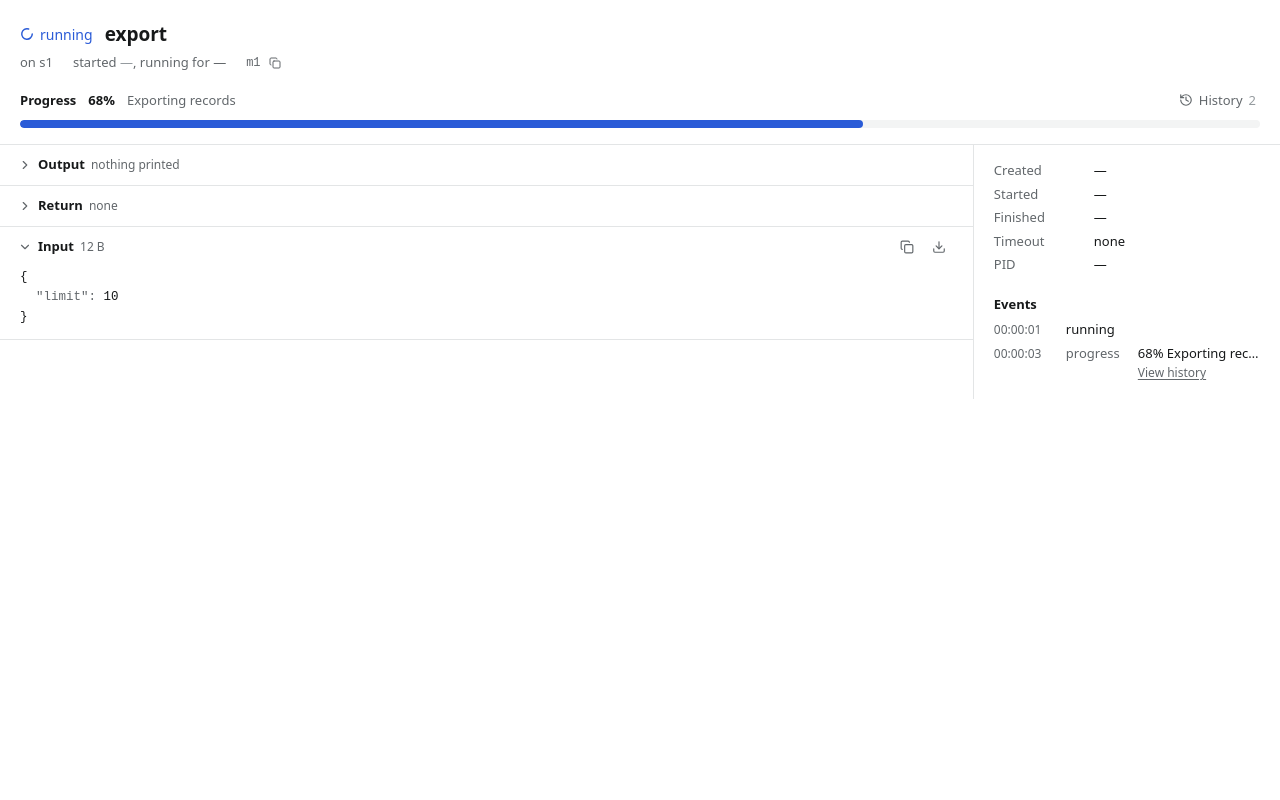
RunDetail › shows every progress update in history and supports closing with Escape
Step 1. Click the button with aria-label "View progress history" → (1217, 100), box [1175,88,1260,112]
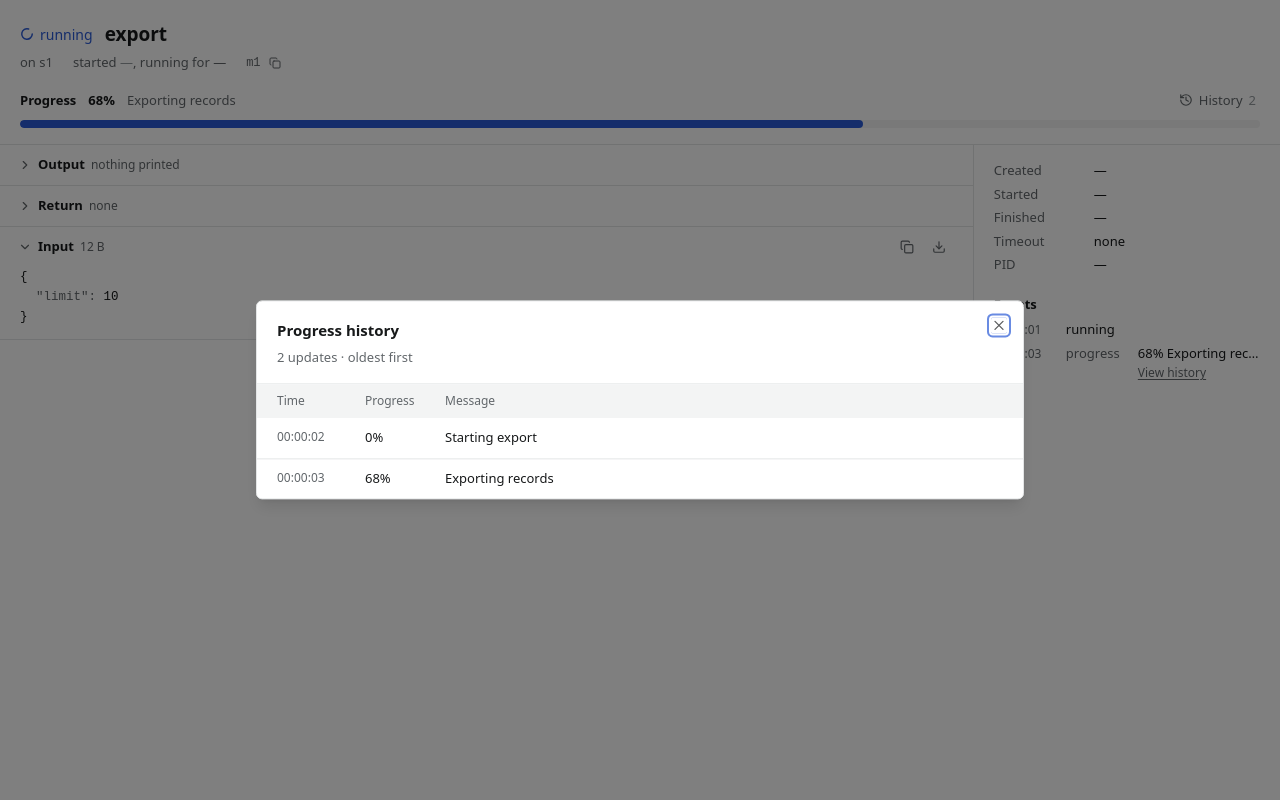
expect the text "Starting export" is shown: met, box [433,419,1023,459]
expect the text "0%" is shown: met, box [353,419,433,459]
expect the text "Exporting records" is shown: met, box [433,459,1023,499]
Step 2. Press Escape
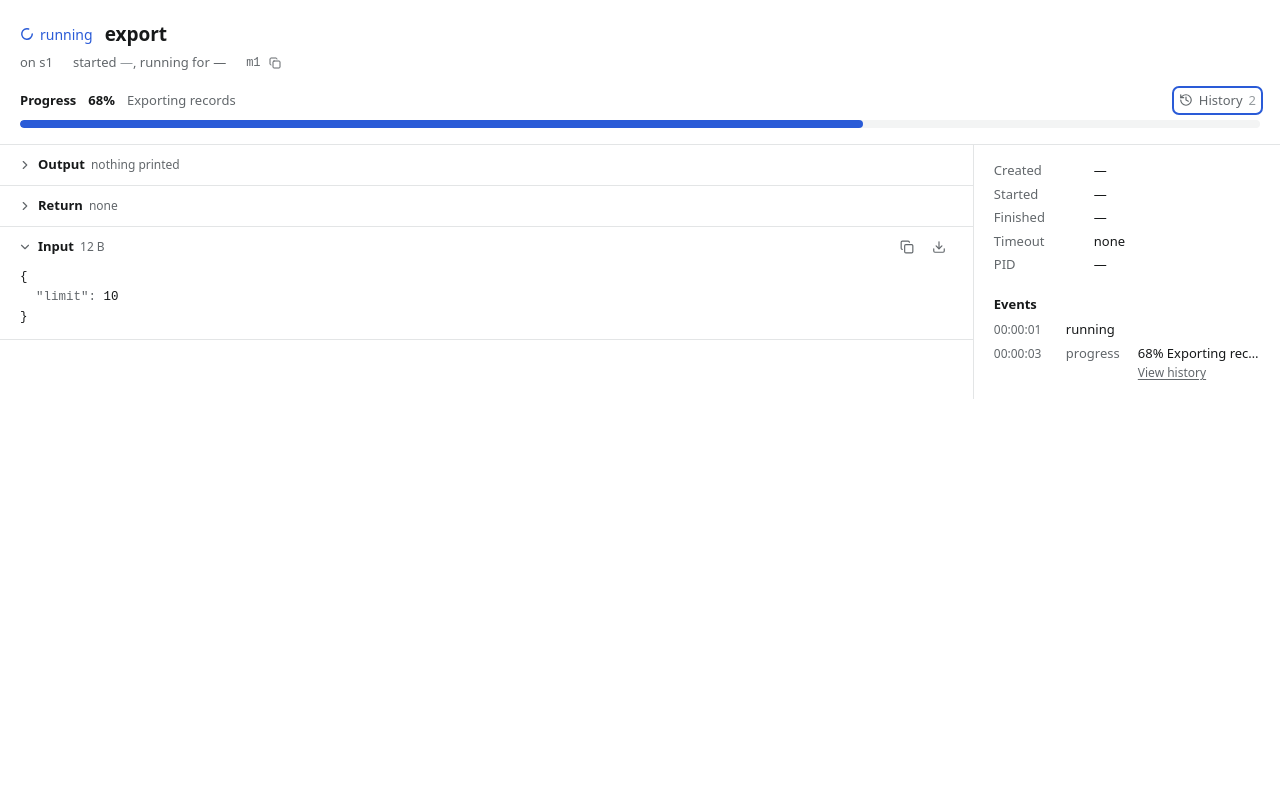
expect the dialog is gone: met
Step 3. Click the button "View history" → (1172, 373), box [1138,364,1206,382]
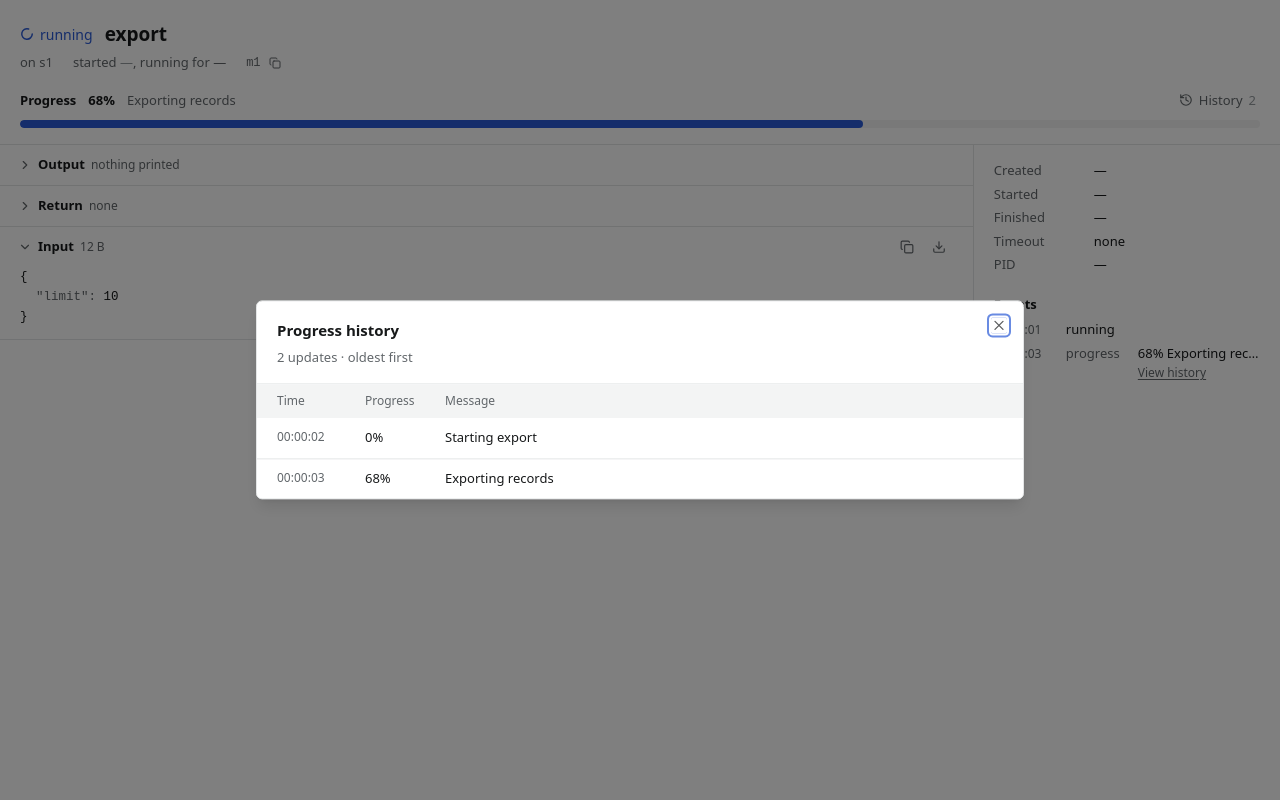
expect the dialog is shown: met, box [256,300,1024,500]
